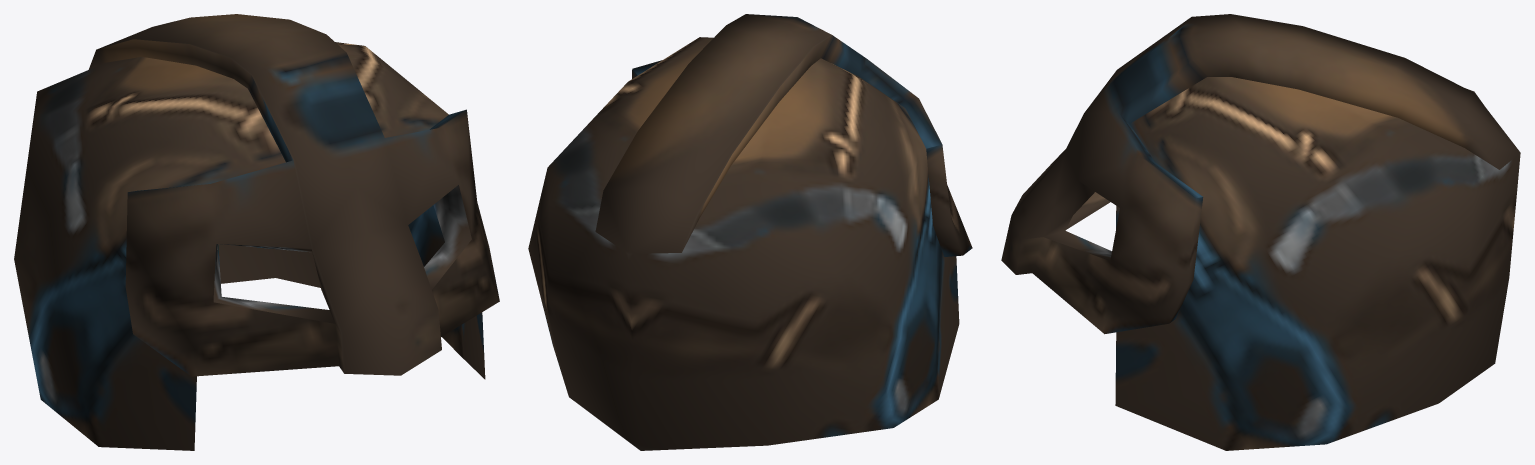
Rendered from leather_helm_drop.fbx.
The picture shows the model from 3 angles, left to right: view 1: azimuth 30°, elevation 25°; view 2: azimuth 150°, elevation 25°; view 3: azimuth 270°, elevation 25°; orthographic projection. The views are drawn at different scales.
Visible parts, largest first — view 1: Leather_Set/helmet; view 2: Leather_Set/helmet; view 3: Leather_Set/helmet.
Boxes of the visible parts, bbox=[...] form: Leather_Set/helmet: bbox=[14, 14, 499, 450]; Leather_Set/helmet: bbox=[528, 14, 972, 450]; Leather_Set/helmet: bbox=[1001, 14, 1520, 450].
Size of the model in its own units: 0.3199 by 0.2896 by 0.4055.
